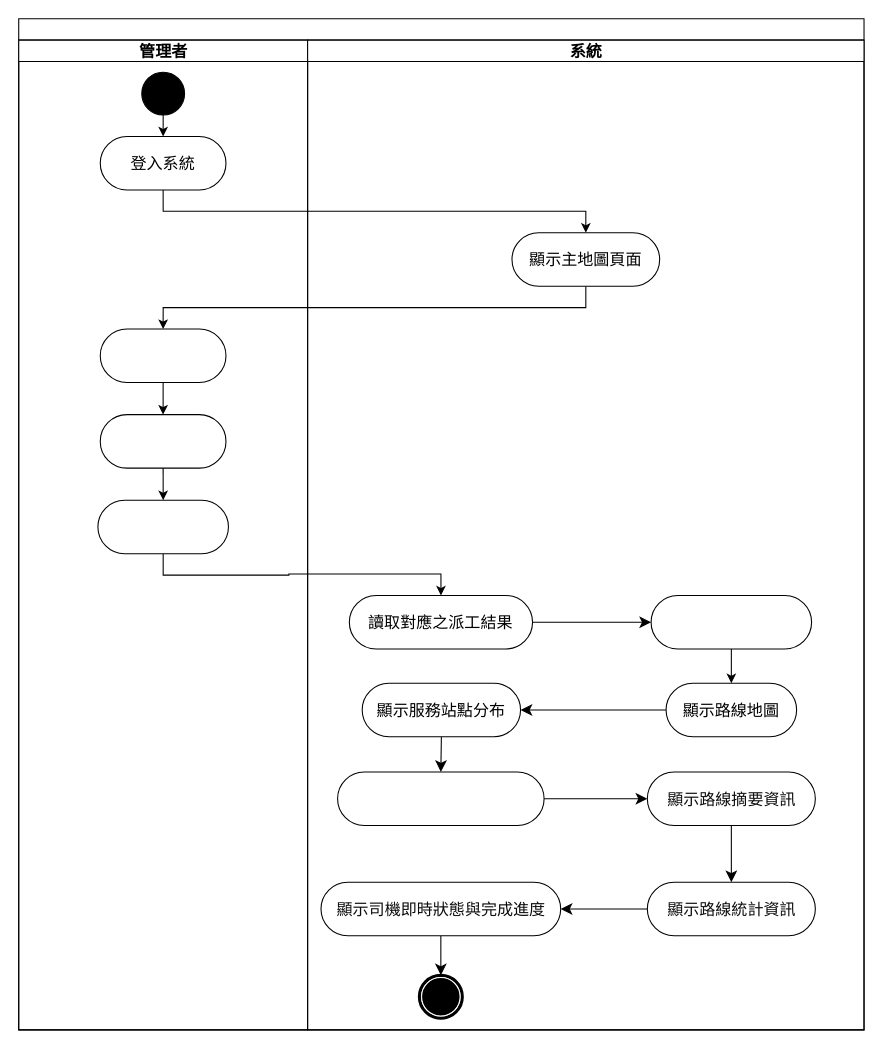
Image size: 883x1049. Some labels were removed from this diagram. Each missing label, with the box of its shape:
載入司機任務資料: (650, 594, 812, 649)
選擇司機: (99, 328, 226, 383)
選擇工作天: (99, 414, 226, 468)
選擇排程模式: (97, 499, 228, 554)
顯示站點順序與服務資訊: (337, 771, 544, 826)
